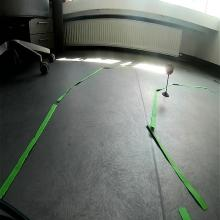stop: (165, 62, 173, 75)
